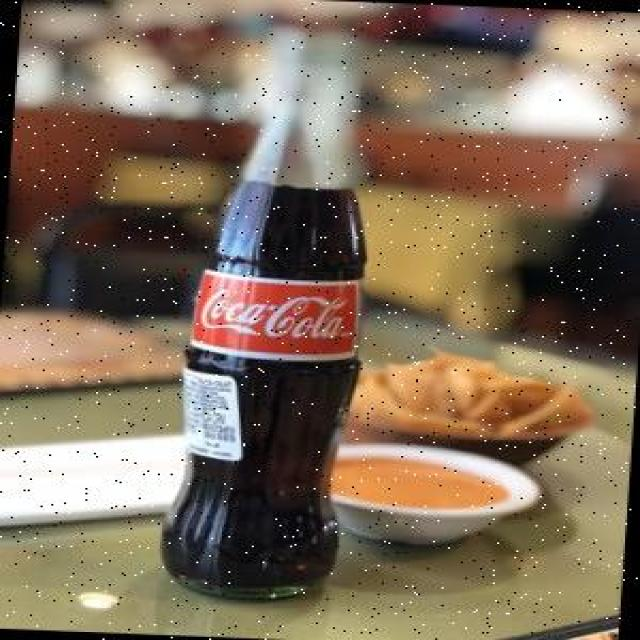coca-cola: (166, 26, 380, 603)
